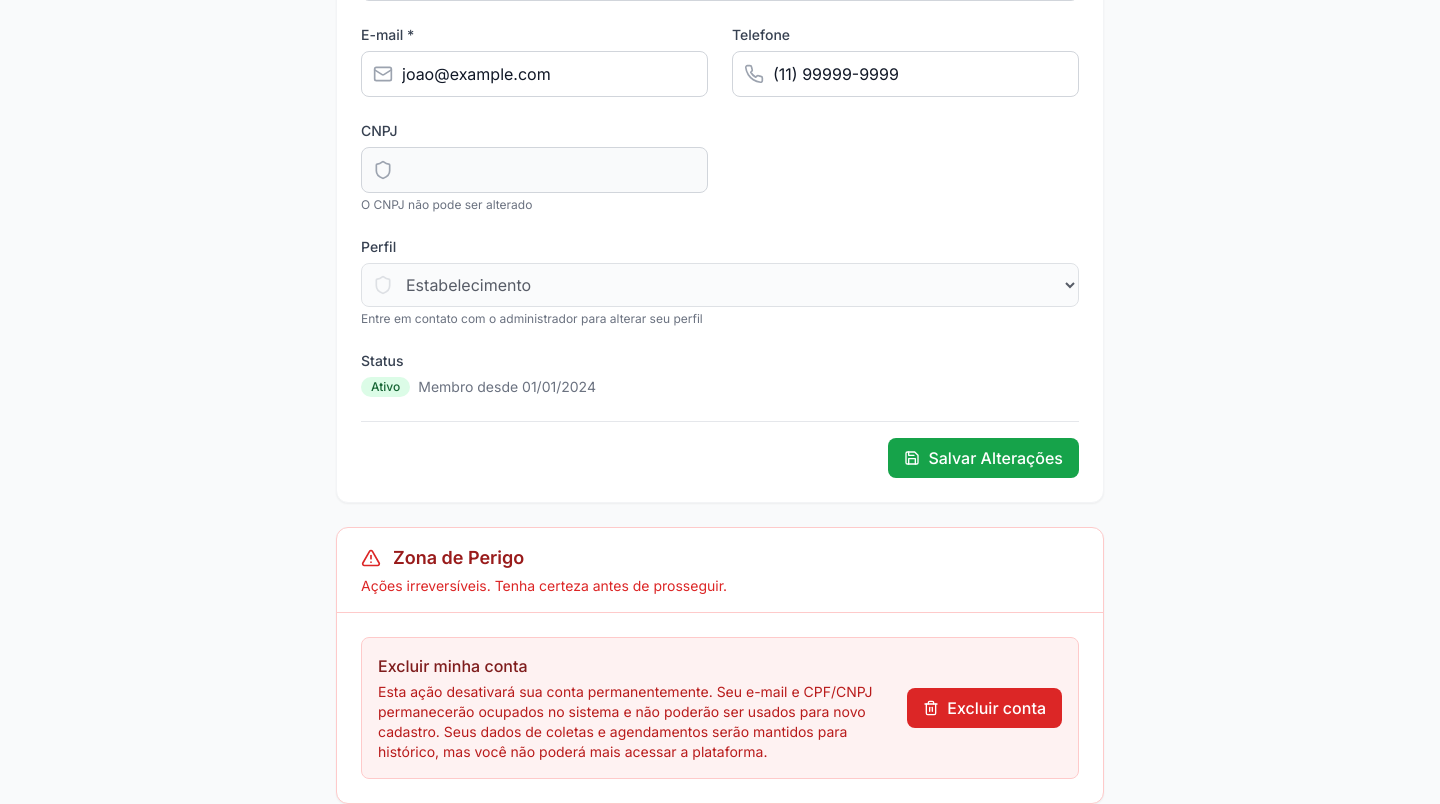
Test: ProfilePage › closes modal when clicking overlay
This screenshot has width=1440, height=804.
(page scrolled)
Click the button "Excluir conta": (985, 708) [907,688,1062,728]
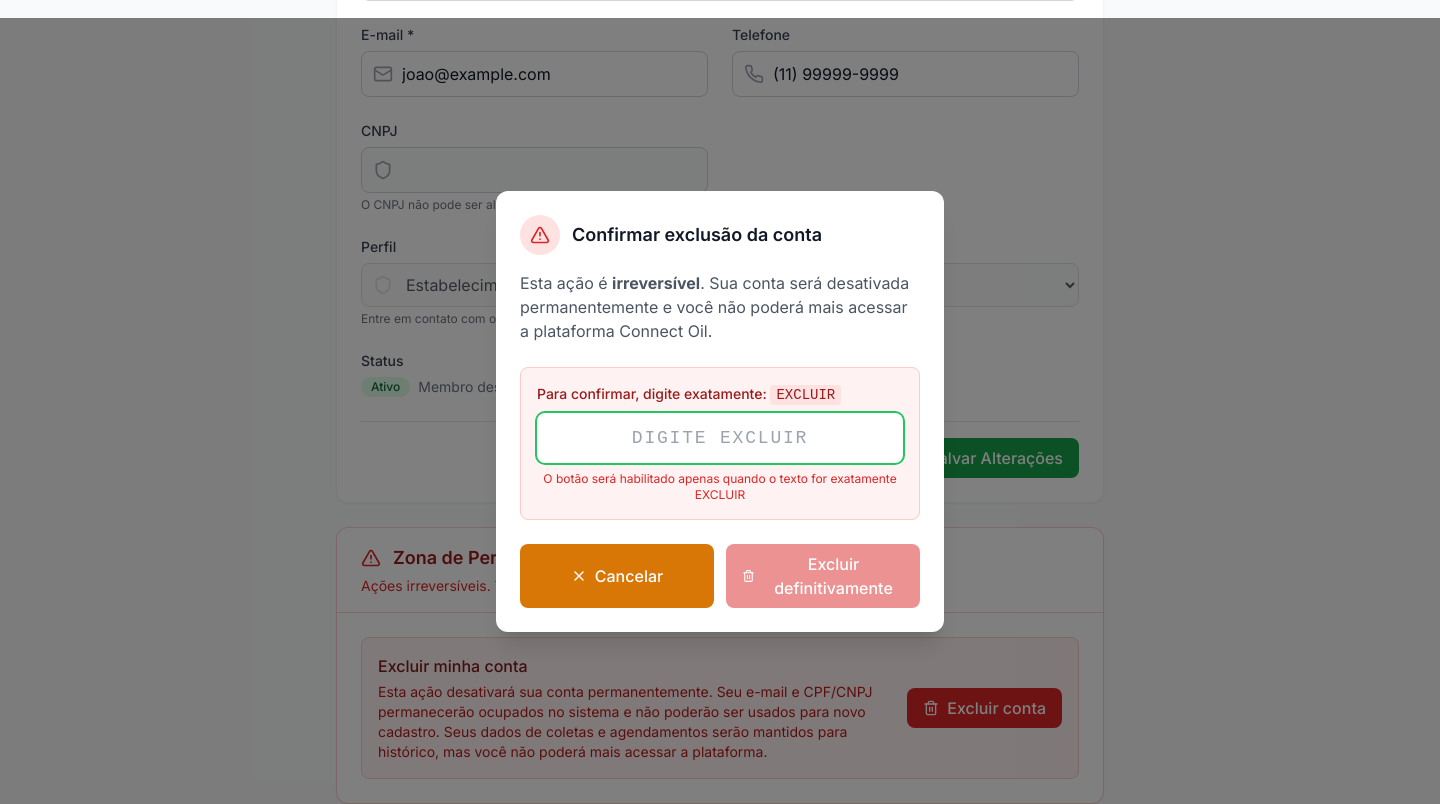
expect the heading "Confirmar exclusão da conta" is shown: met, box [572,220,822,248]
Click on the overlay (the fixed div)
Click the element with class "inset-0": (86, 411) [0,18,1439,803]
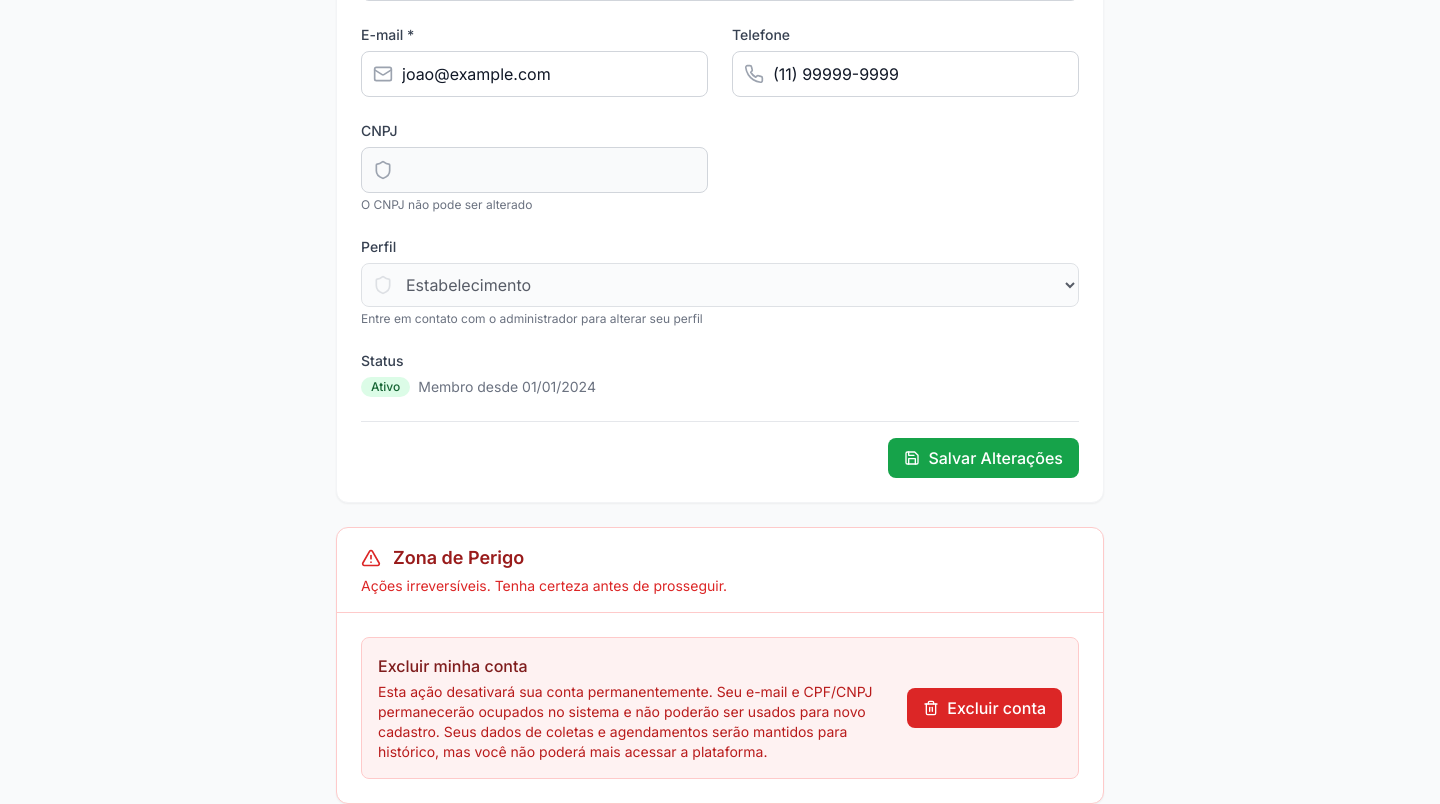
expect the heading "Confirmar exclusão da conta" is gone: met
